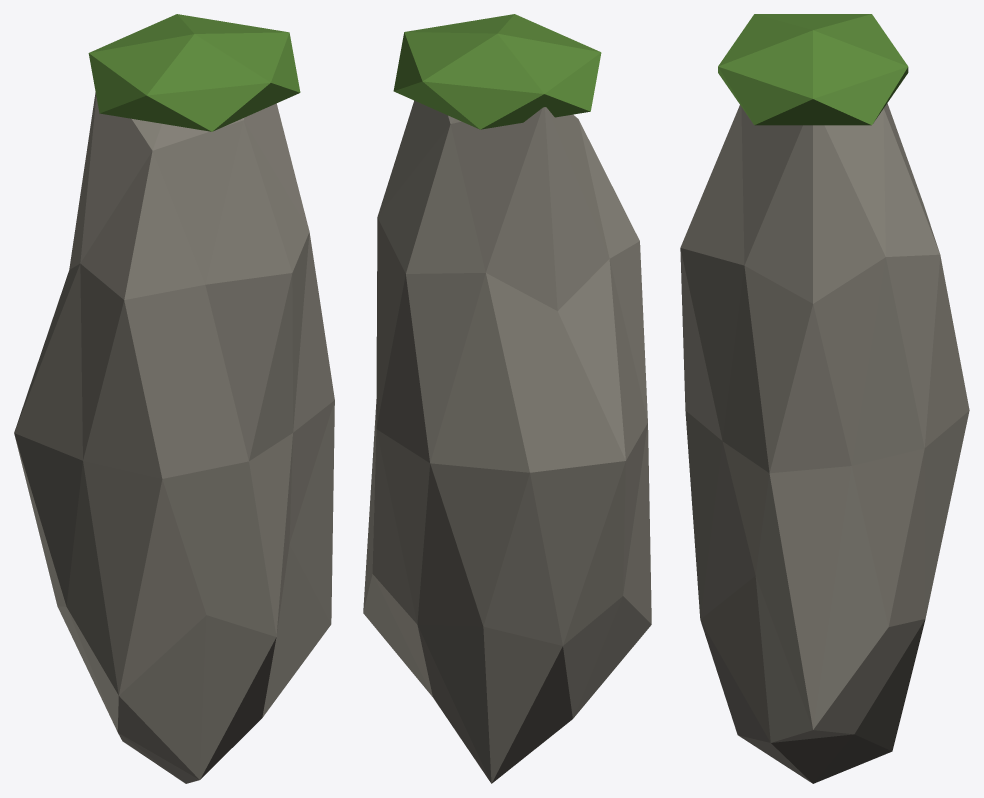
The model's file is sea_stack.glb.
3 views of the same model, side by side, from view 1: azimuth 30°, elevation 25°; view 2: azimuth 150°, elevation 25°; view 3: azimuth 270°, elevation 25° (orthographic). The views are drawn at different scales.
Visible parts, largest first — view 1: sea_stack; view 2: sea_stack; view 3: sea_stack.
Boxes of the visible parts, <box> form: sea_stack: <box>14,14,334,783</box>; sea_stack: <box>363,14,651,783</box>; sea_stack: <box>680,14,969,783</box>.
Bounding box in the file's own units: 1.71 × 4.17 × 1.44.
